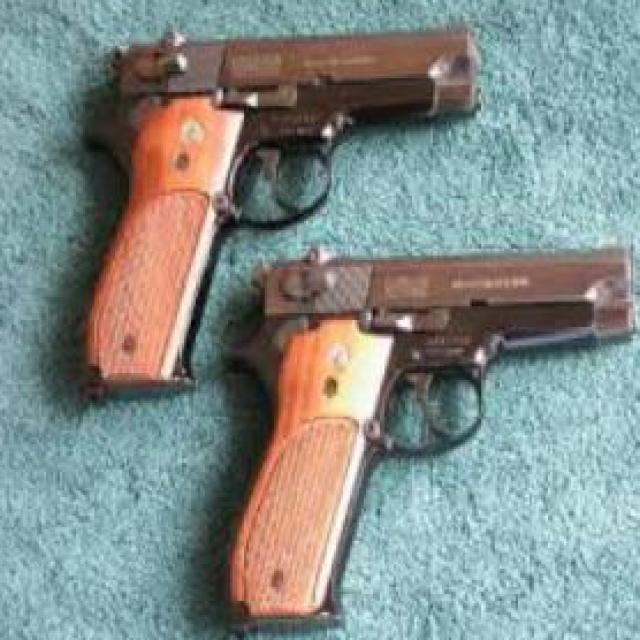pistol: (209, 242, 640, 633), (75, 18, 483, 410)
